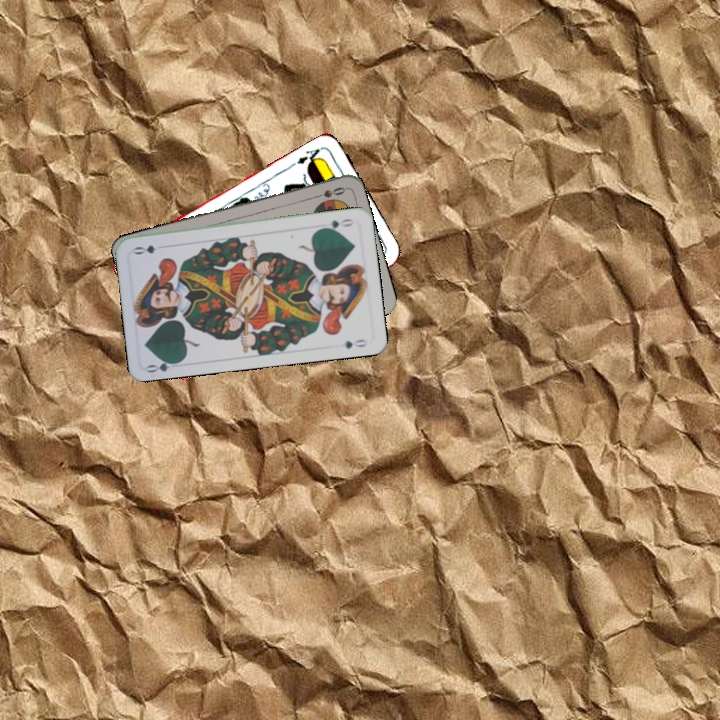EA: (293, 143, 325, 168)
GO: (143, 355, 183, 375), (317, 215, 356, 233)
SO: (308, 183, 348, 202)
